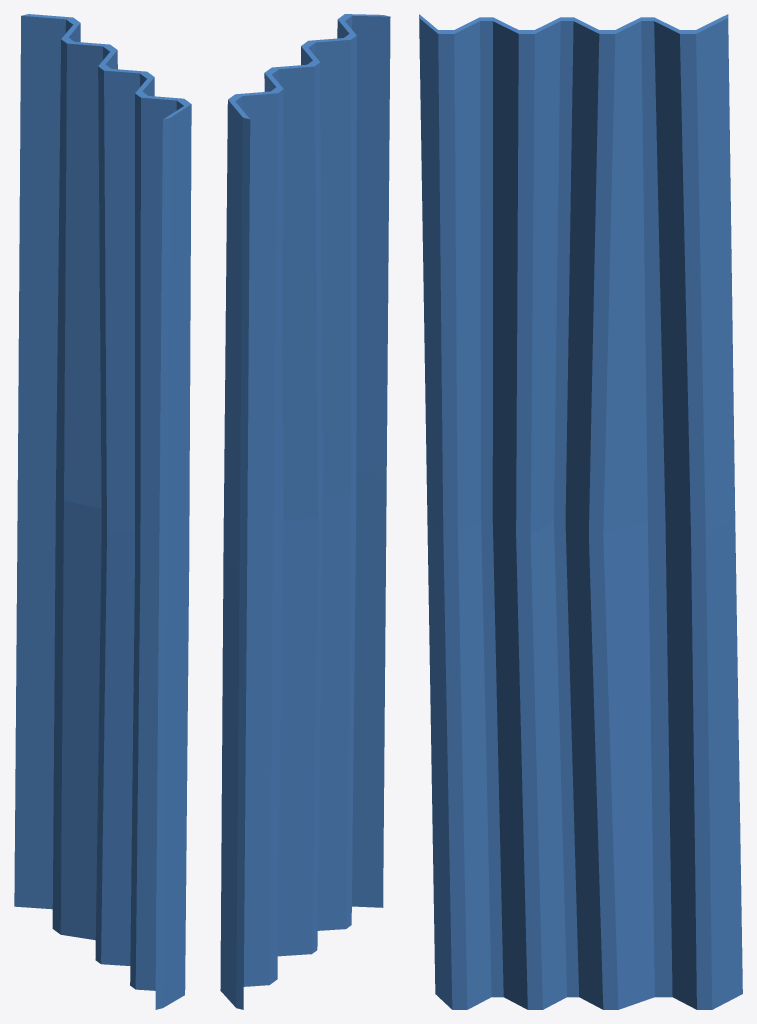
The model's file is Childrens_Room_Curtain_2.fbx.
3 views of the same model, side by side, from view 1: azimuth 30°, elevation 25°; view 2: azimuth 150°, elevation 25°; view 3: azimuth 270°, elevation 25° (orthographic). The views are drawn at different scales.
Parts seen in each view (by area): view 1: Childrens_Room_Curtain_2; view 2: Childrens_Room_Curtain_2; view 3: Childrens_Room_Curtain_2.
Boxes of the visible parts, x1,y1,x2,y2 form: Childrens_Room_Curtain_2: [14, 14, 191, 1009]; Childrens_Room_Curtain_2: [220, 14, 390, 1009]; Childrens_Room_Curtain_2: [419, 14, 742, 1009].
Size of the model in its own units: 16.35 by 374 by 112.
